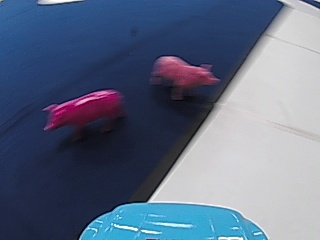pig: (39, 82, 129, 139), (151, 52, 223, 98)
